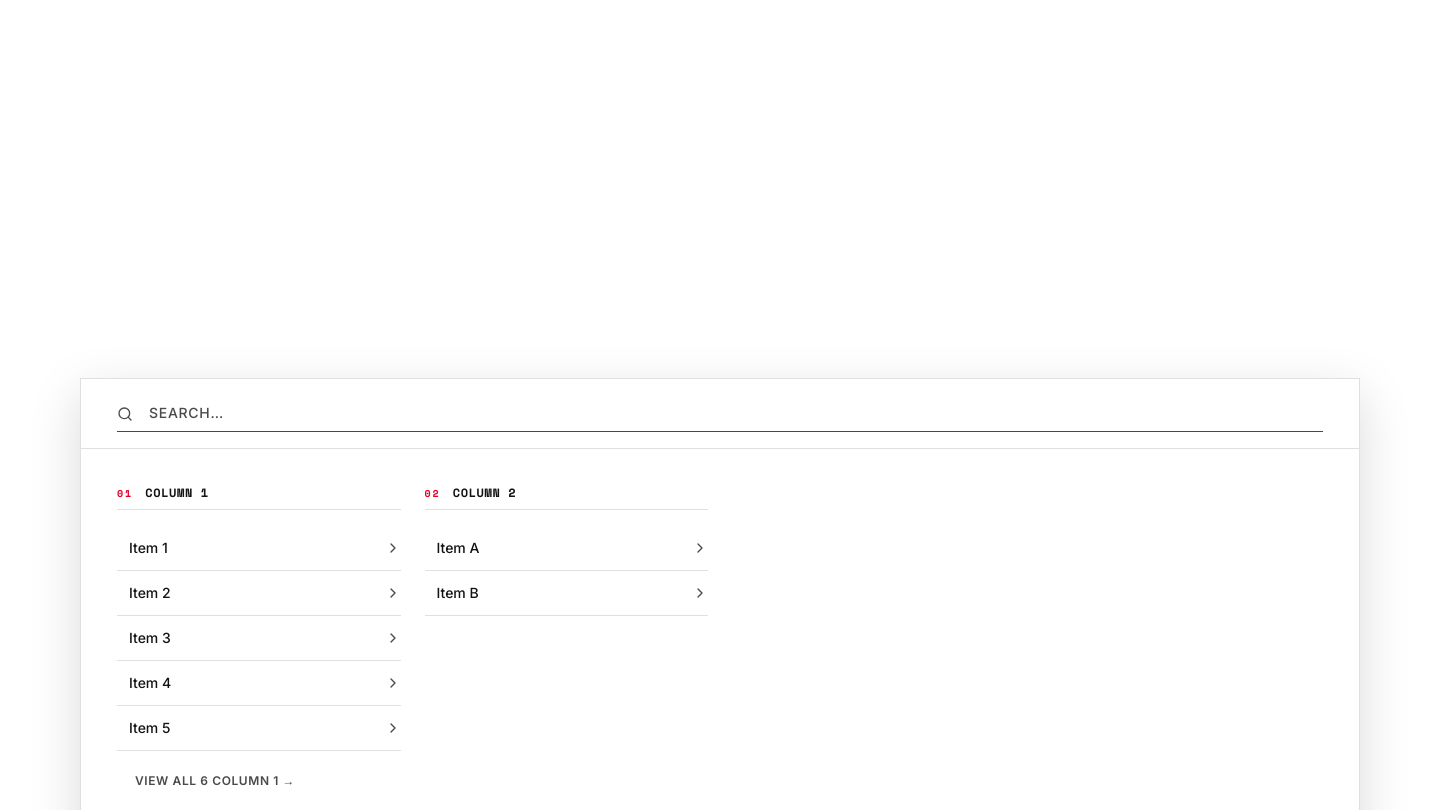
Test: MegaMenu › shows "No results" when search has no matches
This screenshot has width=1440, height=810.
(page scrolled)
Type "nonexistent" into the search field with placeholder "SEARCH…" at coordinates (720, 414), box x1=117 y1=395 x2=1323 y2=432
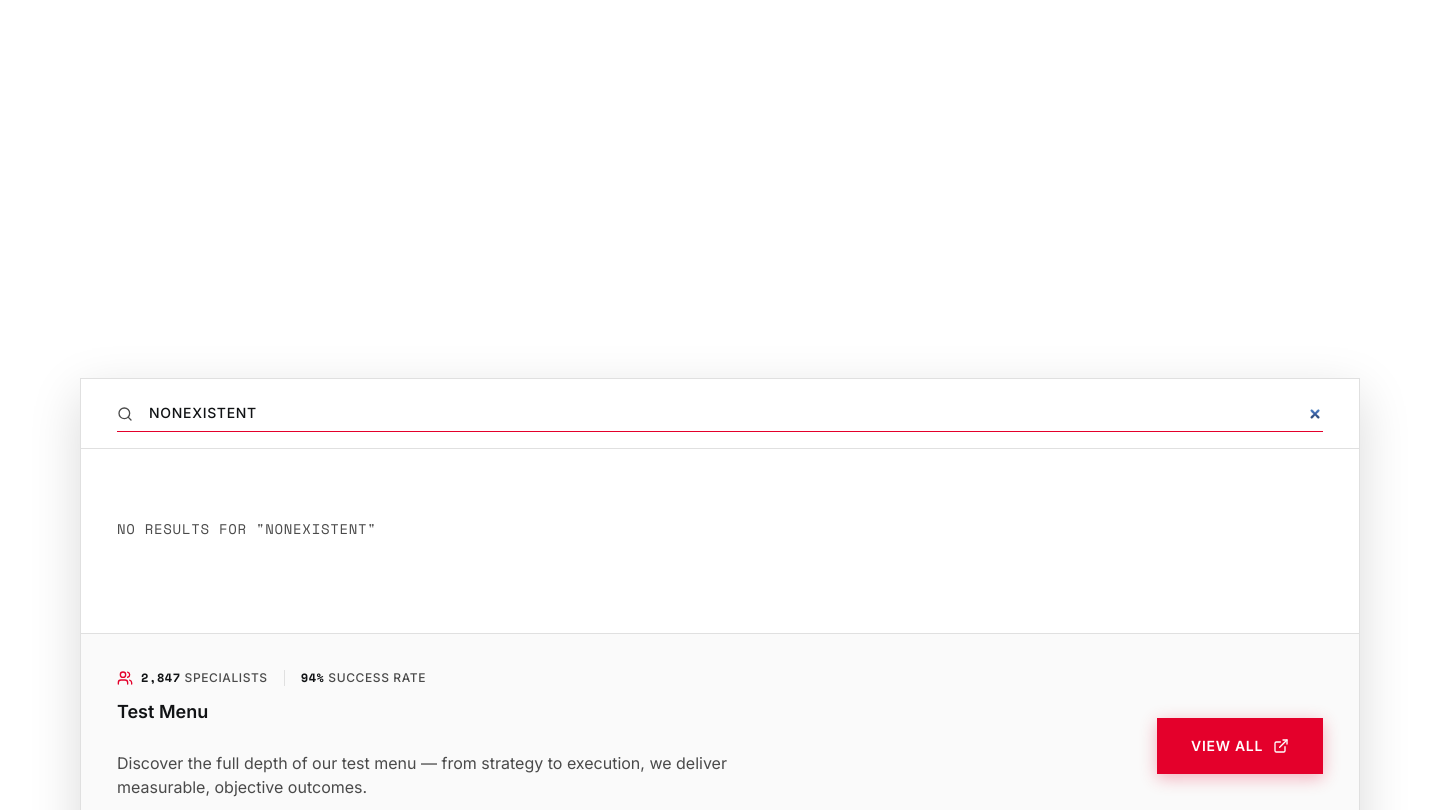
Expected: the text "No results for \"nonexistent\"" is shown, x1=117 y1=518 x2=376 y2=539
